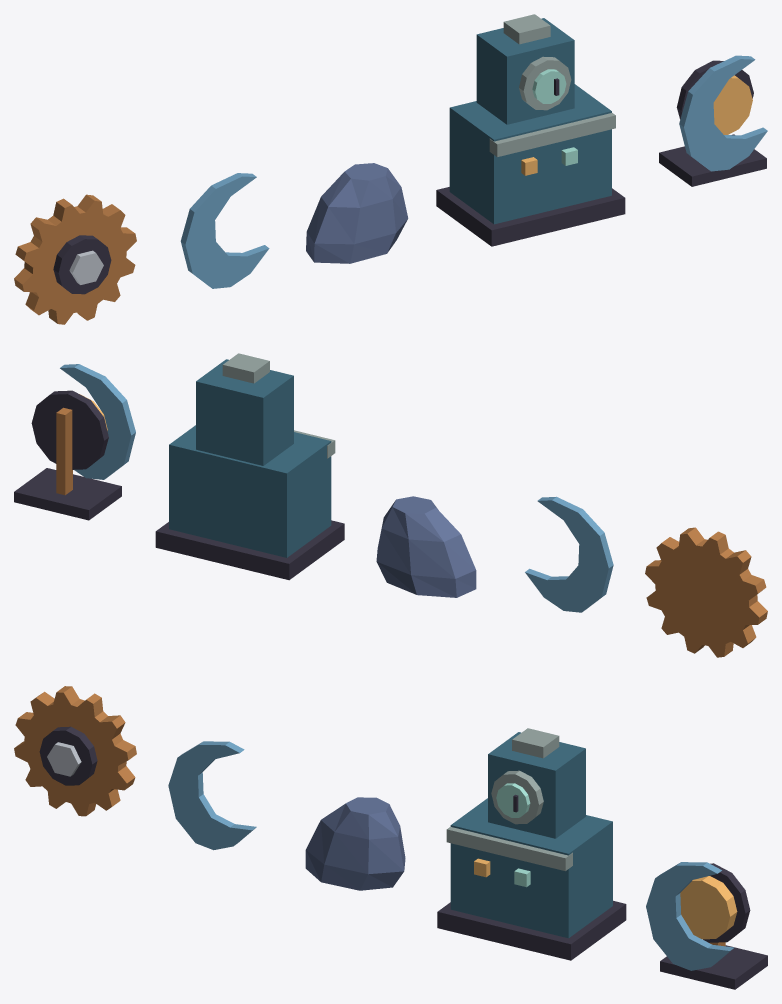
The model's file is nod-appraisal-model.obj.
The picture shows the model from 3 angles, top to bottom: view 1: azimuth 30°, elevation 25°; view 2: azimuth 150°, elevation 25°; view 3: azimuth 330°, elevation 25°; orthographic projection.
Parts seen in each view (by area): view 1: AppraisalProps; view 2: AppraisalProps; view 3: AppraisalProps.
Part boxes in pixels (x1,y1,x2,y2): AppraisalProps: [14, 14, 767, 324]; AppraisalProps: [14, 353, 767, 657]; AppraisalProps: [14, 686, 767, 989].
Size of the model in its own units: 8.89 by 2.13 by 1.16.
